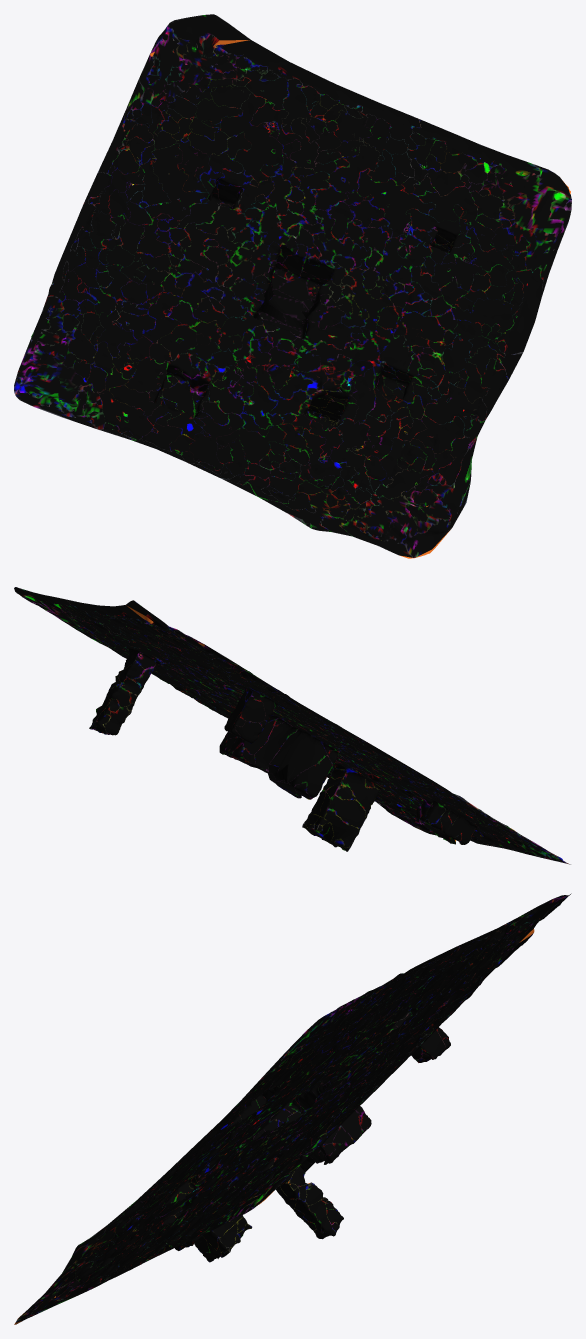
3 views of the same model, one above another, from view 1: azimuth 30°, elevation 25°; view 2: azimuth 150°, elevation 25°; view 3: azimuth 270°, elevation 25° (orthographic). The views are drawn at different scales.
Visible parts, largest first — view 1: world; view 2: world; view 3: world.
Boxes of the visible parts, x1,y1,x2,y2 form: world: (14, 14, 571, 558); world: (14, 587, 570, 864); world: (14, 893, 571, 1324).
Size of the model in its own units: 6.72 by 4.49 by 5.29.
1 material, 1 textured.
